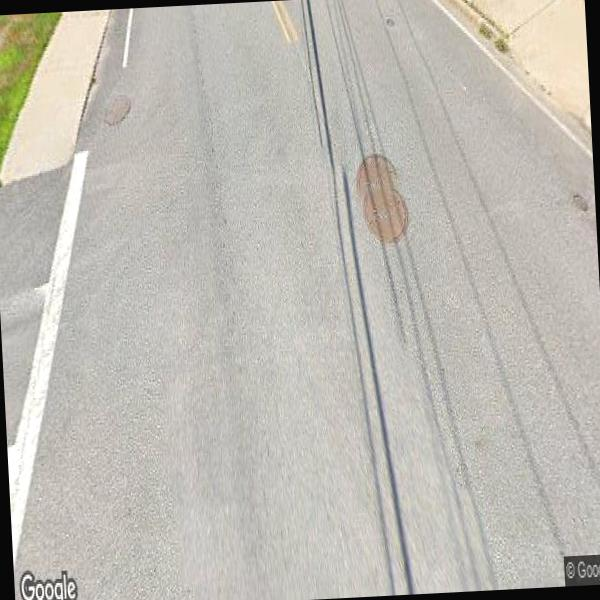manhole: (340, 142, 421, 258), (100, 83, 142, 142)
